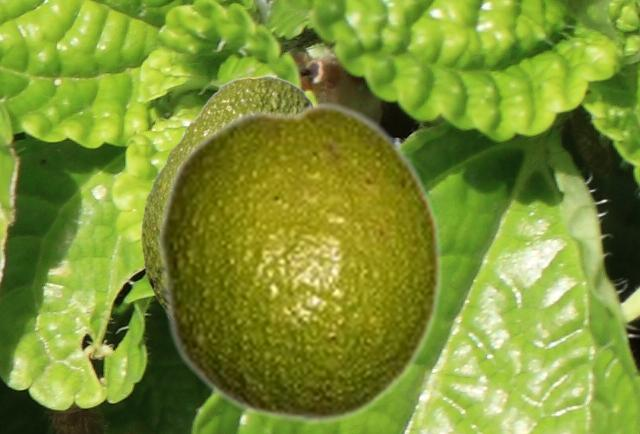avocado: (155, 99, 444, 426), (141, 75, 312, 315)
